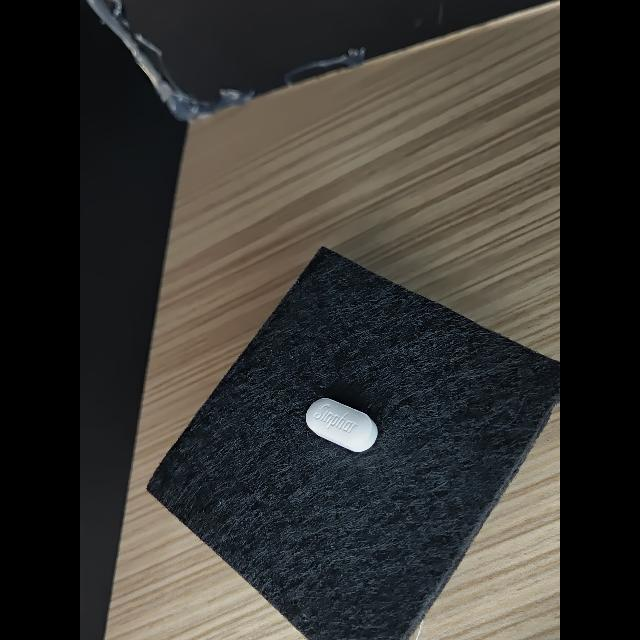Intact Pill: (306, 398, 378, 452)
